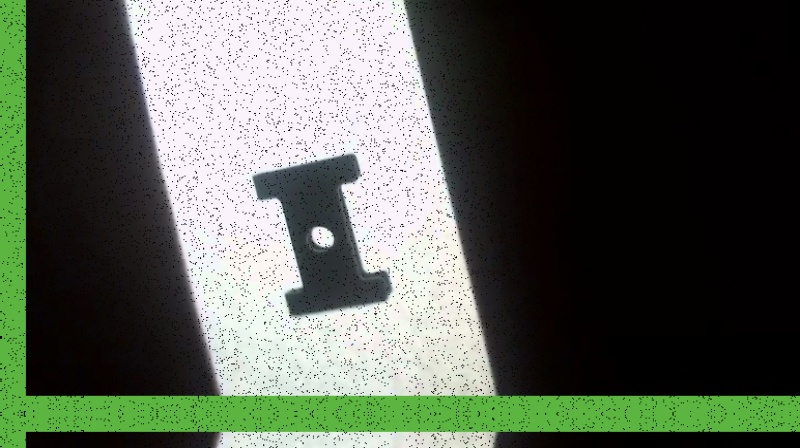O002: (249, 149, 394, 317)
